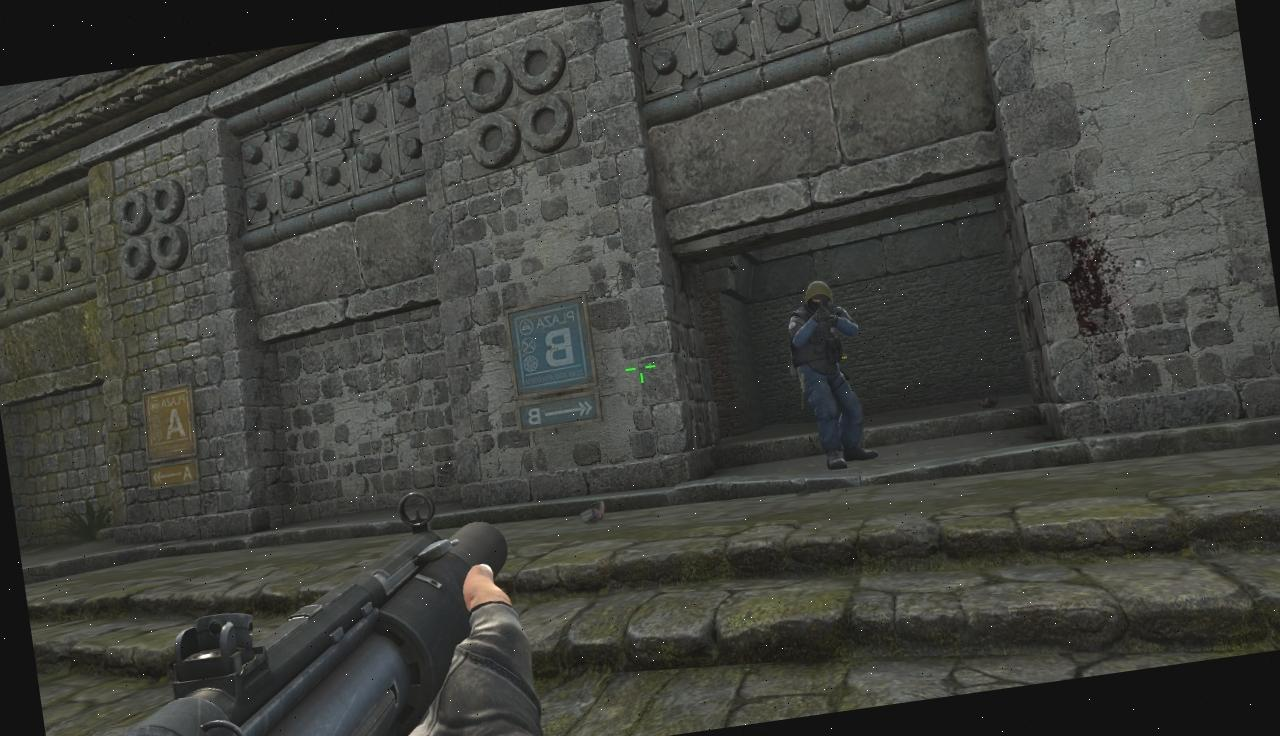ct: (786, 277, 872, 472)
cthead: (804, 280, 836, 316)
rifle: (43, 473, 553, 736)
